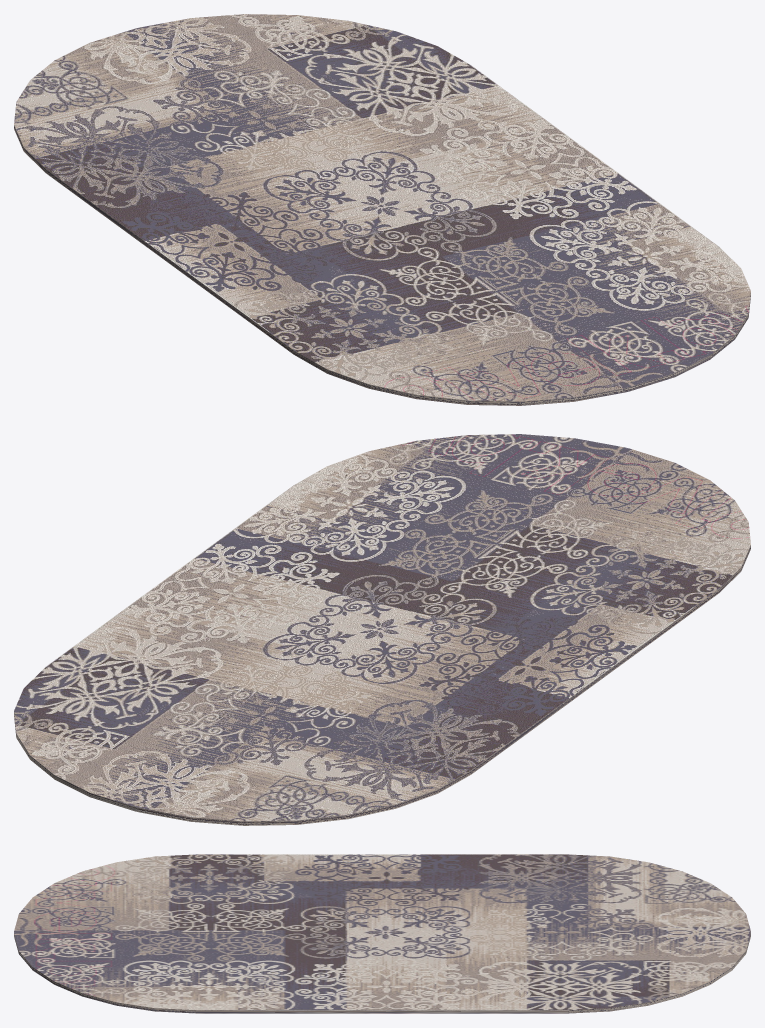
The model's file is carpet.gltf.
3 views of the same model, one above another, from view 1: azimuth 30°, elevation 25°; view 2: azimuth 150°, elevation 25°; view 3: azimuth 270°, elevation 25° (orthographic). The views are drawn at different scales.
Parts seen in each view (by area): view 1: Line001; view 2: Line001; view 3: Line001.
Part boxes in pixels (x1,y1,x2,y2): Line001: (14,14,750,405); Line001: (14,434,750,825); Line001: (14,854,750,1013).
Bounding box in the file's own units: 1 × 0.01 × 2.
1 material, 1 textured.
